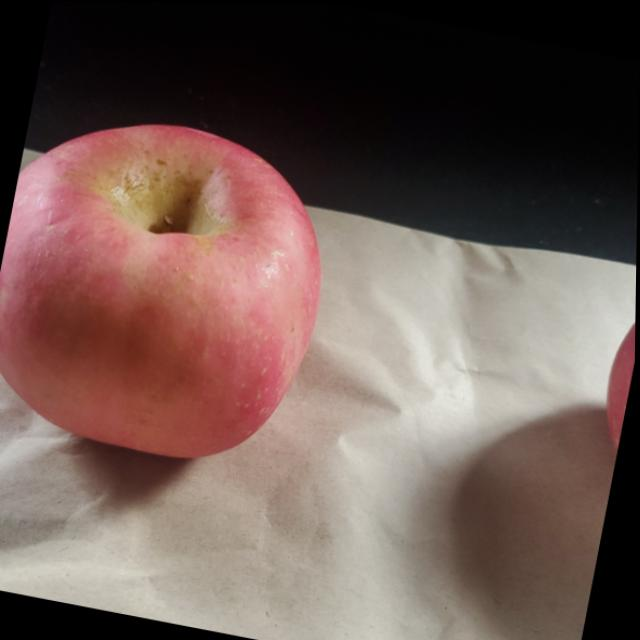apple: (0, 97, 346, 479), (589, 271, 637, 485)
